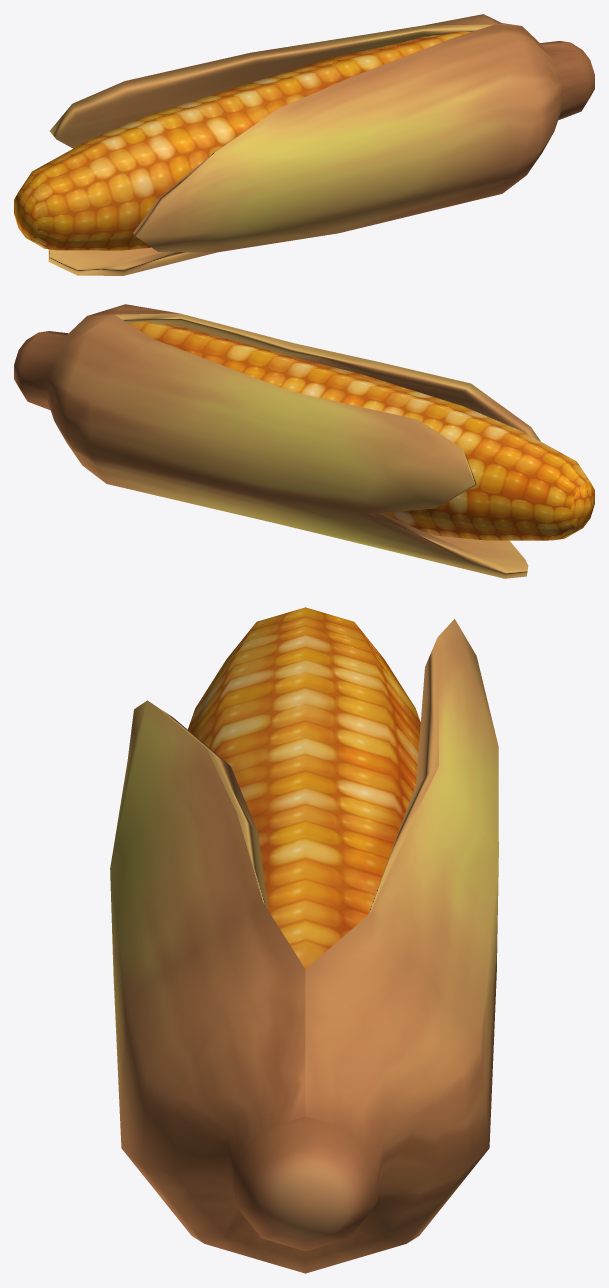
Rendered from Corn_Yellow_Husk_02.fbx.
The picture shows the model from 3 angles, top to bottom: view 1: azimuth 30°, elevation 25°; view 2: azimuth 150°, elevation 25°; view 3: azimuth 270°, elevation 25°; orthographic projection. The views are drawn at different scales.
Parts seen in each view (by area): view 1: Corn_Yellow_Husk_02; view 2: Corn_Yellow_Husk_02; view 3: Corn_Yellow_Husk_02.
Part boxes in pixels (x1,y1,x2,y2): Corn_Yellow_Husk_02: (14,14,594,275); Corn_Yellow_Husk_02: (14,304,594,578); Corn_Yellow_Husk_02: (110,607,498,1273).
Size of the model in its own units: 101 by 28.29 by 29.84.
